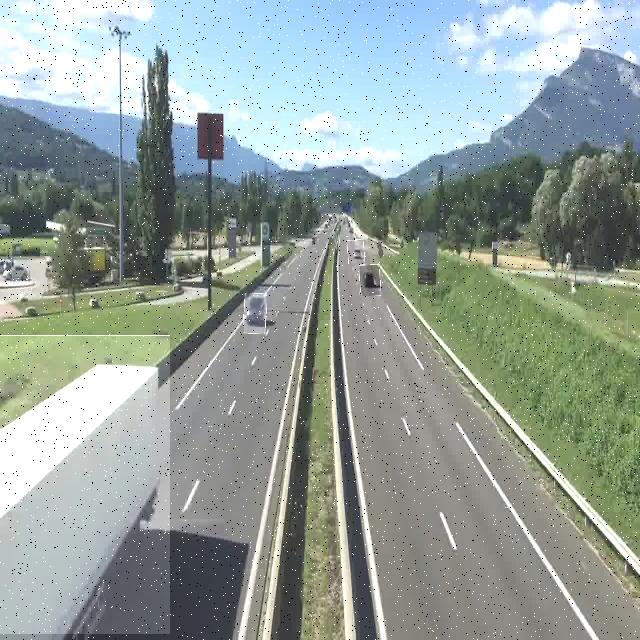Car: (244, 293, 266, 334), (360, 265, 380, 296), (348, 240, 365, 265)
Truck: (0, 335, 170, 634)
